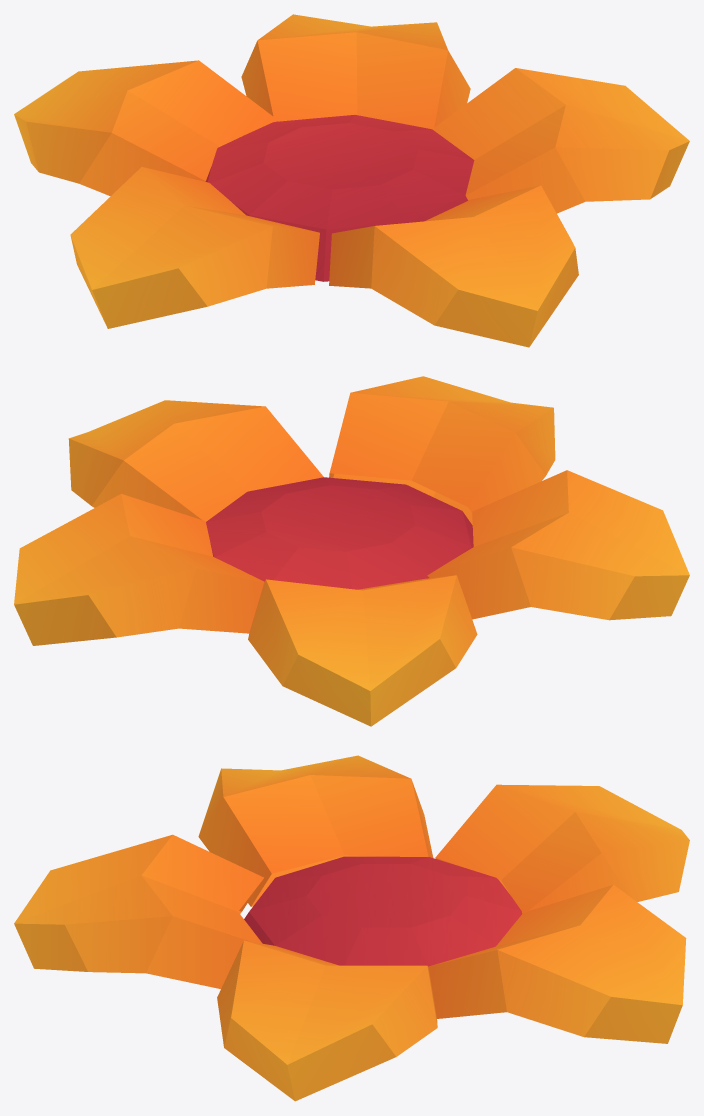
Rendered from Flower2.glb.
The picture shows the model from 3 angles, top to bottom: view 1: azimuth 30°, elevation 25°; view 2: azimuth 150°, elevation 25°; view 3: azimuth 270°, elevation 25°; orthographic projection.
Visible parts, largest first — view 1: Flower2; view 2: Flower2; view 3: Flower2.
Boxes of the visible parts, left/top/right/bottom form: Flower2: left=14, top=14, right=689, bottom=347; Flower2: left=14, top=376, right=689, bottom=726; Flower2: left=14, top=755, right=689, bottom=1101.
Bounding box in the file's own units: 0.6751 × 0.0987 × 0.655.
1 material, 1 textured.
